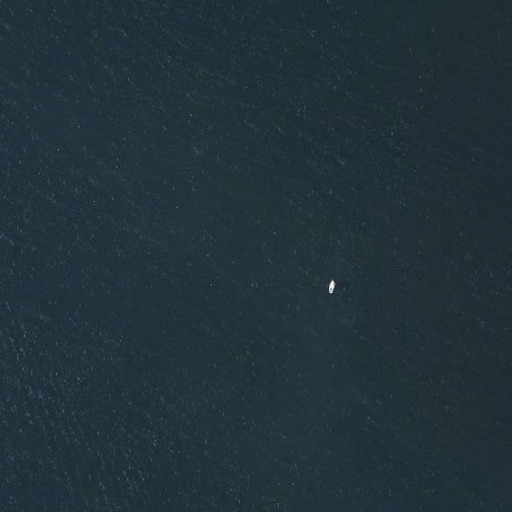ship: (325, 277, 337, 297)
